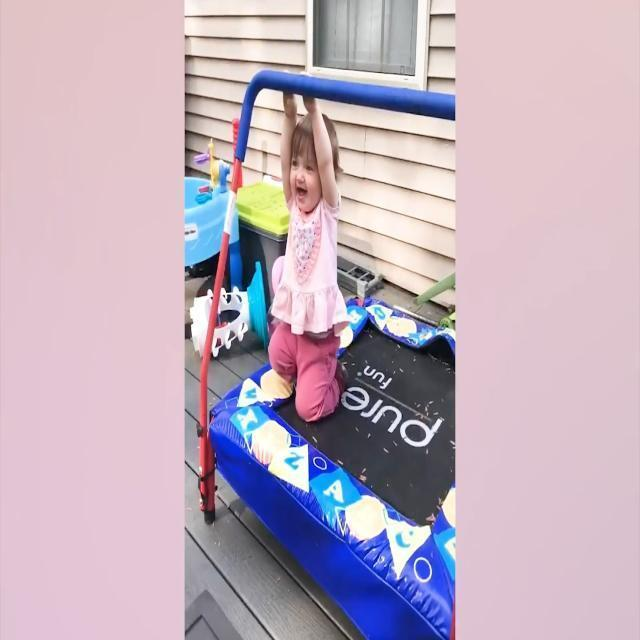child: (267, 82, 354, 423)
